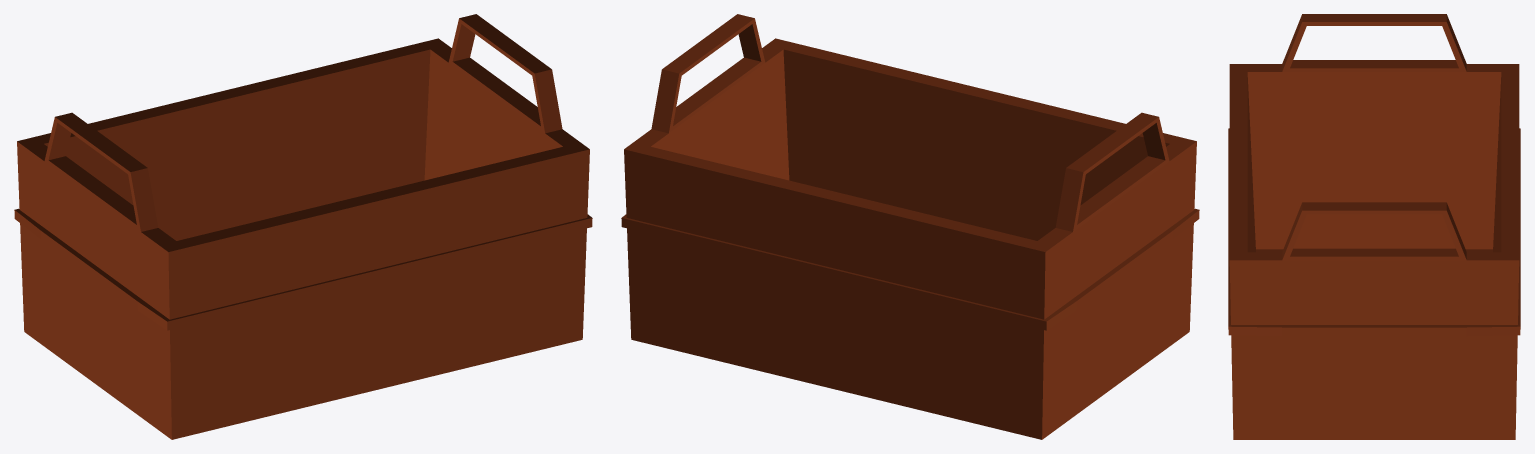
Rendered from Storage Box 3.fbx.
The picture shows the model from 3 angles, left to right: view 1: azimuth 30°, elevation 25°; view 2: azimuth 150°, elevation 25°; view 3: azimuth 270°, elevation 25°; orthographic projection. The views are drawn at different scales.
Parts seen in each view (by area): view 1: Node 0; view 2: Node 0; view 3: Node 0.
Part boxes in pixels (x1,y1,x2,y2): Node 0: [14, 14, 592, 439]; Node 0: [621, 14, 1199, 439]; Node 0: [1228, 14, 1520, 439].
Bounding box in the file's own units: 0.3114 × 0.2728 × 0.5039.
